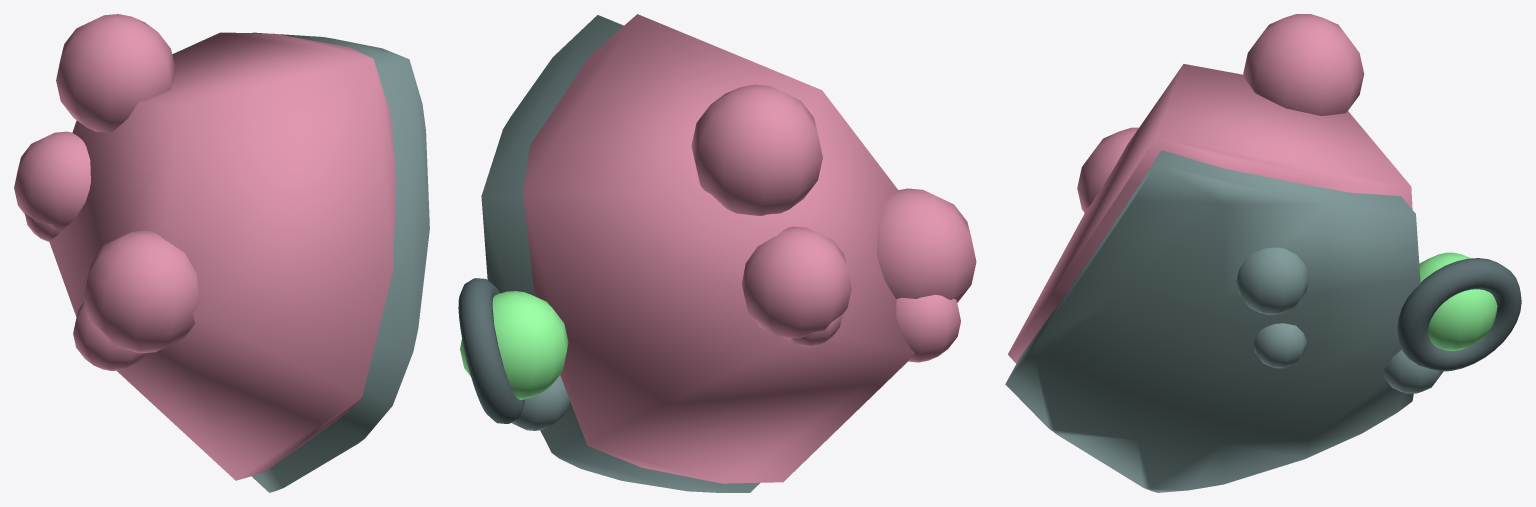
Rendered from chunk18.glb.
3 views of the same model, side by side, from view 1: azimuth 30°, elevation 25°; view 2: azimuth 150°, elevation 25°; view 3: azimuth 270°, elevation 25° (orthographic). The views are drawn at different scales.
Parts seen in each view (by area): view 1: flesh, skin; view 2: flesh, skin, glow, lip; view 3: skin, flesh, lip, glow.
Boxes of the visible parts, x1=… form: flesh: x1=14, y1=14, x2=396, y2=480; skin: x1=251, y1=32, x2=429, y2=492; flesh: x1=522, y1=14, x2=976, y2=483; skin: x1=481, y1=15, x2=760, y2=492; glow: x1=460, y1=291, x2=568, y2=399; lip: x1=458, y1=278, x2=524, y2=423; skin: x1=1005, y1=150, x2=1442, y2=492; flesh: x1=1008, y1=14, x2=1412, y2=363; lip: x1=1397, y1=258, x2=1521, y2=371; glow: x1=1419, y1=252, x2=1497, y2=350.
Bounding box in the file's own units: 0.693 × 0.8303 × 0.8931.
